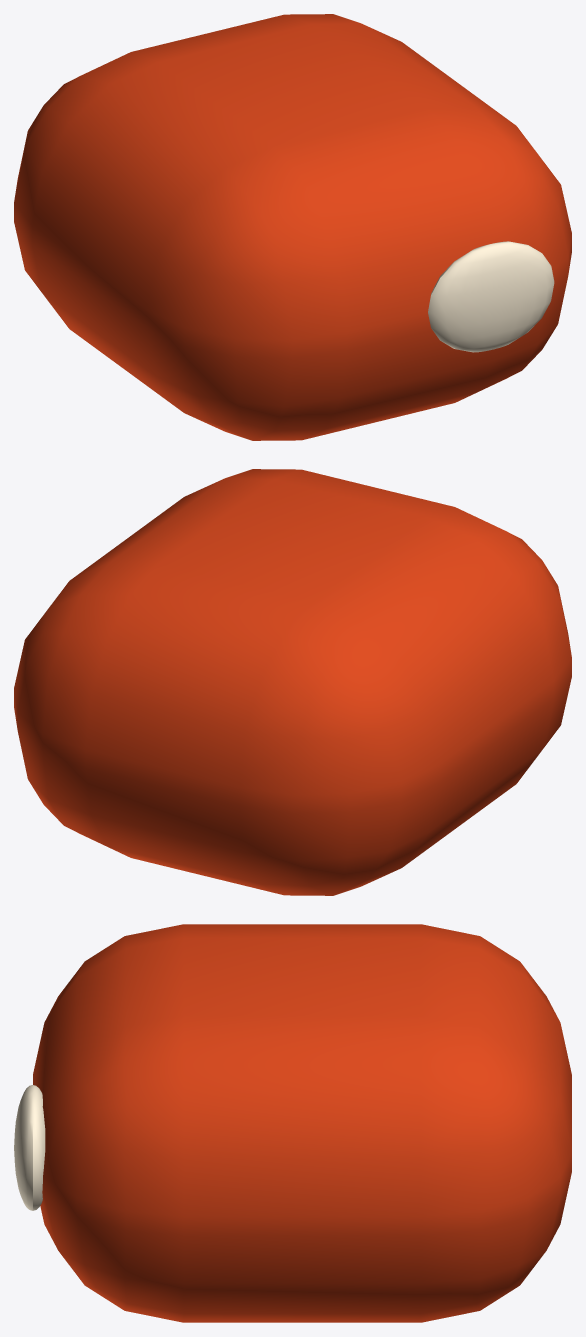
Rendered from plat_mush_l.glb.
The picture shows the model from 3 angles, top to bottom: view 1: azimuth 30°, elevation 25°; view 2: azimuth 150°, elevation 25°; view 3: azimuth 270°, elevation 25°; orthographic projection. The views are drawn at different scales.
Visible parts, largest first — view 1: cap.001, spot.001; view 2: cap.001; view 3: cap.001, spot.001.
Boxes of the visible parts, x1,y1,x2,y2 form: cap.001: (14,14,571,440); spot.001: (428,241,554,352); cap.001: (14,469,571,895); cap.001: (33,924,571,1322); spot.001: (14,1085,45,1210).
Bounding box in the file's own units: 0.9 × 0.6001 × 1.04.
